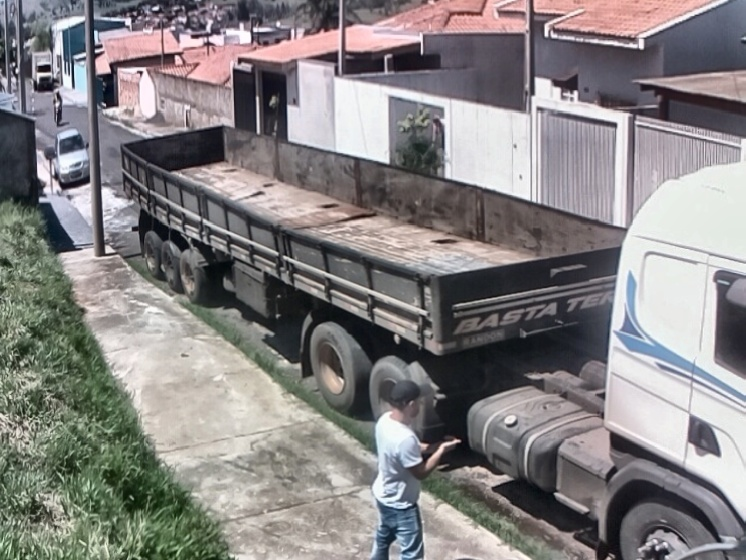person: (365, 379, 466, 560)
